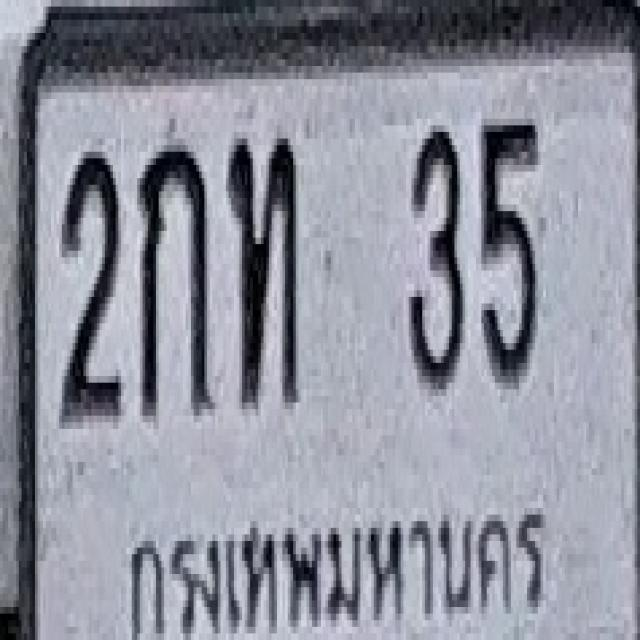-: (138, 138, 208, 416), (227, 132, 297, 402)
2: (60, 148, 120, 419)
3: (408, 126, 462, 390)
5: (480, 115, 536, 386)
BKK: (111, 487, 564, 640)
